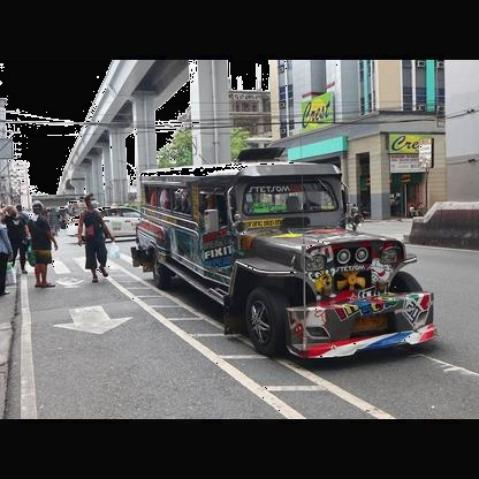jeepney: (139, 160, 444, 369)
